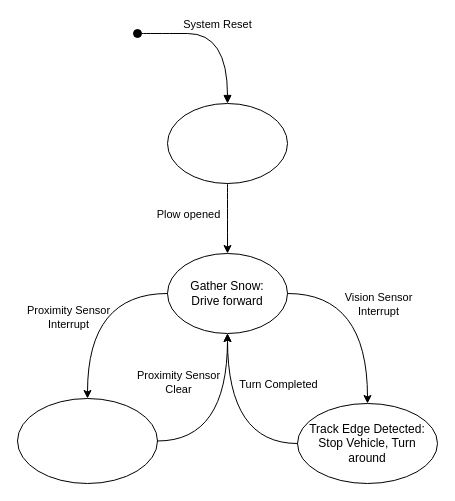
The diagram is 455 pixels wide and 501 high, and some of its shapes have lost their labels. The centre of each missing label's shape, as x and y in pixels:
"Initialize: Open snowplow" goes at [227,143].
"Obstacle Detected: Stop vehicle, turn vehicle" goes at [87,441].
